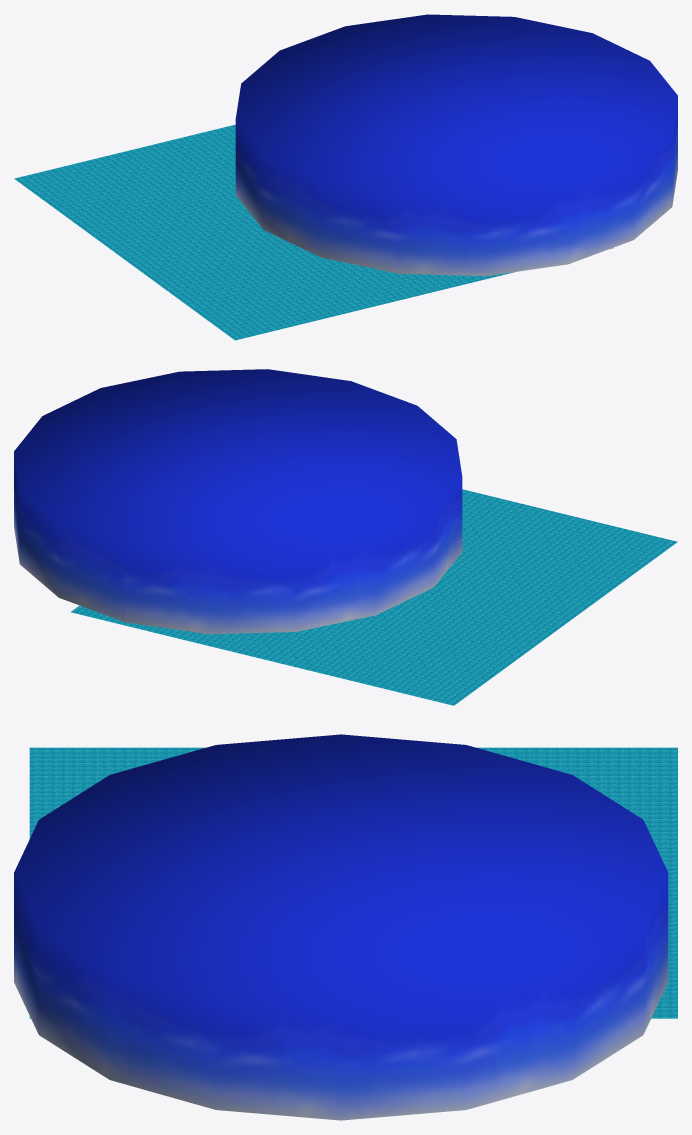
Rendered from MainMenu4.obj.
3 renders of one model, top to bottom at view 1: azimuth 30°, elevation 25°; view 2: azimuth 150°, elevation 25°; view 3: azimuth 270°, elevation 25°, orthographic. The views are drawn at different scales.
Bounding box in the file's own units: 10905 × 1560 × 8207.
